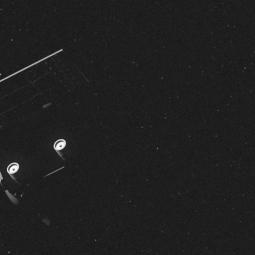proba_3_csc: (0, 33, 100, 229)
